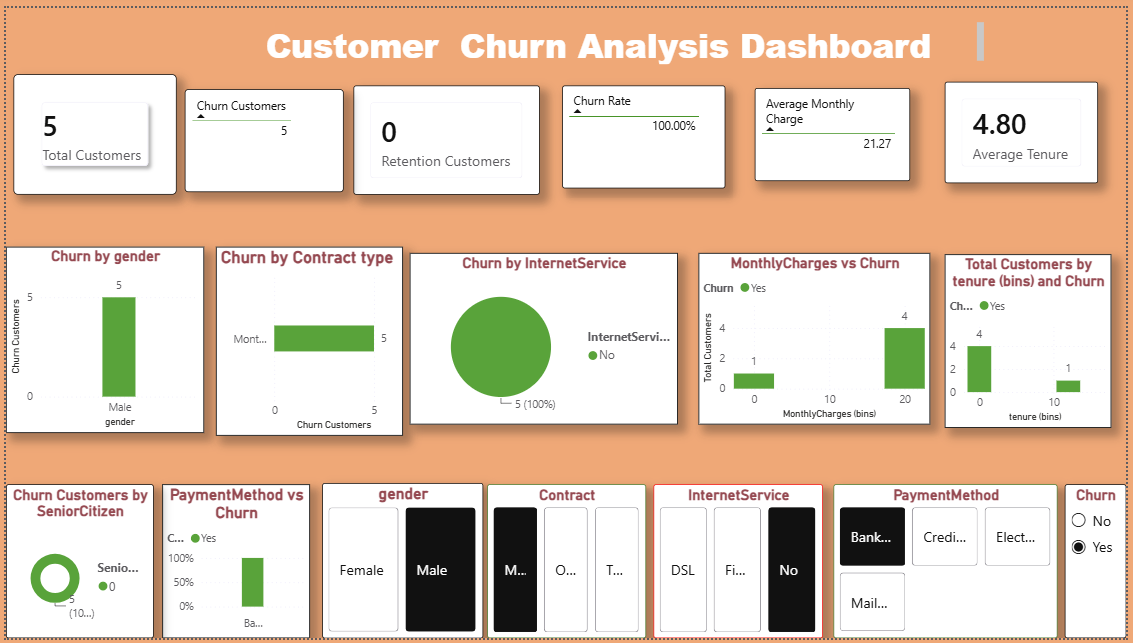

The dashboard page shown, as its layout file describes it:
{"tool":"powerbi","page":{"name":"Page 1","canvas":[1280,720],"ordinal":0},"visuals":[{"type":"cardVisual","fields":{"Data":["Customer_churn.Total Customers"]},"box":[8.8,76.2,186.2,137.5],"z":0},{"type":"cardVisual","fields":{"Data":["Customer_churn.Retention Customers"]},"box":[397.5,88.8,212.5,125],"z":1000},{"type":"tableEx","fields":{"Values":["Customer_churn.Churn Customers"]},"box":[203.8,92.5,181.2,117.5],"z":2000},{"type":"tableEx","fields":{"Values":["Customer_churn.Churn Rate"]},"box":[636.2,88.8,186.2,117.5],"z":3000},{"type":"cardVisual","fields":{"Data":["Customer_churn.Average Tenure"]},"box":[1072.5,85,175,116.2],"z":4000},{"type":"tableEx","fields":{"Values":["Customer_churn.Average Monthly Charge"]},"box":[855,91.2,177.5,106.2],"z":5000},{"type":"clusteredColumnChart","title":"Churn by gender","fields":{"Category":["Customer_churn.gender"],"Y":["Customer_churn.Churn Customers"]},"box":[0,272.5,226.2,212.5],"z":6000},{"type":"clusteredBarChart","title":"Churn  by Contract type","fields":{"Category":["Customer_churn.Contract"],"Y":["Customer_churn.Churn Customers"]},"box":[240,272.5,213.8,216.2],"z":7000},{"type":"pieChart","title":"Churn  by InternetService","fields":{"Category":["Customer_churn.InternetService"],"Y":["Customer_churn.Churn Customers"]},"box":[461.2,280,306.2,196.2],"z":8000},{"type":"hundredPercentStackedColumnChart","title":"PaymentMethod vs Churn","fields":{"Category":["Customer_churn.PaymentMethod"],"Series":["Customer_churn.Churn"],"Y":["Customer_churn.Total Customers"]},"box":[178.8,543.8,168.8,176.2],"z":9000},{"type":"clusteredColumnChart","title":" MonthlyCharges vs Churn","fields":{"Y":["Customer_churn.Total Customers"],"Series":["Customer_churn.Churn"],"Category":["Customer_churn.MonthlyCharges (bins)"]},"box":[791.2,280,265,196.2],"z":10000},{"type":"clusteredColumnChart","fields":{"Y":["Customer_churn.Total Customers"],"Series":["Customer_churn.Churn"],"Category":["Customer_churn.tenure (bins)"]},"box":[1072.5,281.2,190,198.8],"z":11000},{"type":"donutChart","fields":{"Category":["Customer_churn.SeniorCitizen"],"Y":["Customer_churn.Churn Customers"]},"box":[0,543.8,168.8,176.2],"z":12000},{"type":"advancedSlicerVisual","fields":{"Values":["Customer_churn.gender"]},"box":[361.2,542.5,183.8,177.5],"z":13000},{"type":"advancedSlicerVisual","fields":{"Values":["Customer_churn.Contract"]},"box":[550,543.8,181.2,176.2],"z":14000},{"type":"advancedSlicerVisual","fields":{"Values":["Customer_churn.InternetService"]},"box":[740,543.8,193.8,176.2],"z":15000},{"type":"advancedSlicerVisual","fields":{"Values":["Customer_churn.PaymentMethod"]},"box":[945,543.8,256.2,176.2],"z":16000},{"type":"listSlicer","fields":{"Values":["Customer_churn.Churn"]},"box":[1210,543.8,70,176.2],"z":17000},{"type":"textbox","box":[240,11.2,882.5,55],"z":17001}]}

Visuals, with their boxes in screenshot pixels (x1, y1, x2, y2), scaled from the page's 1280x720 canvas onto the 1133x643 screenshot:
cardVisual - Customer_churn.Total Customers: locate(8, 68, 173, 191)
cardVisual - Customer_churn.Retention Customers: locate(352, 79, 540, 191)
tableEx - Customer_churn.Churn Customers: locate(180, 83, 341, 188)
tableEx - Customer_churn.Churn Rate: locate(563, 79, 728, 184)
cardVisual - Customer_churn.Average Tenure: locate(949, 76, 1104, 180)
tableEx - Customer_churn.Average Monthly Charge: locate(757, 81, 914, 176)
"Churn by gender" clusteredColumnChart: locate(0, 243, 200, 433)
"Churn  by Contract type" clusteredBarChart: locate(212, 243, 402, 436)
"Churn  by InternetService" pieChart: locate(408, 250, 679, 425)
"PaymentMethod vs Churn" hundredPercentStackedColumnChart: locate(158, 486, 308, 642)
" MonthlyCharges vs Churn" clusteredColumnChart: locate(700, 250, 935, 425)
clusteredColumnChart - Customer_churn.Total Customers x Customer_churn.Churn: locate(949, 251, 1118, 429)
donutChart - Customer_churn.SeniorCitizen x Customer_churn.Churn Customers: locate(0, 486, 149, 642)
advancedSlicerVisual - Customer_churn.gender: locate(320, 484, 482, 642)
advancedSlicerVisual - Customer_churn.Contract: locate(487, 486, 647, 642)
advancedSlicerVisual - Customer_churn.InternetService: locate(655, 486, 827, 642)
advancedSlicerVisual - Customer_churn.PaymentMethod: locate(836, 486, 1063, 642)
listSlicer - Customer_churn.Churn: locate(1071, 486, 1132, 642)
textbox: locate(212, 10, 994, 59)
